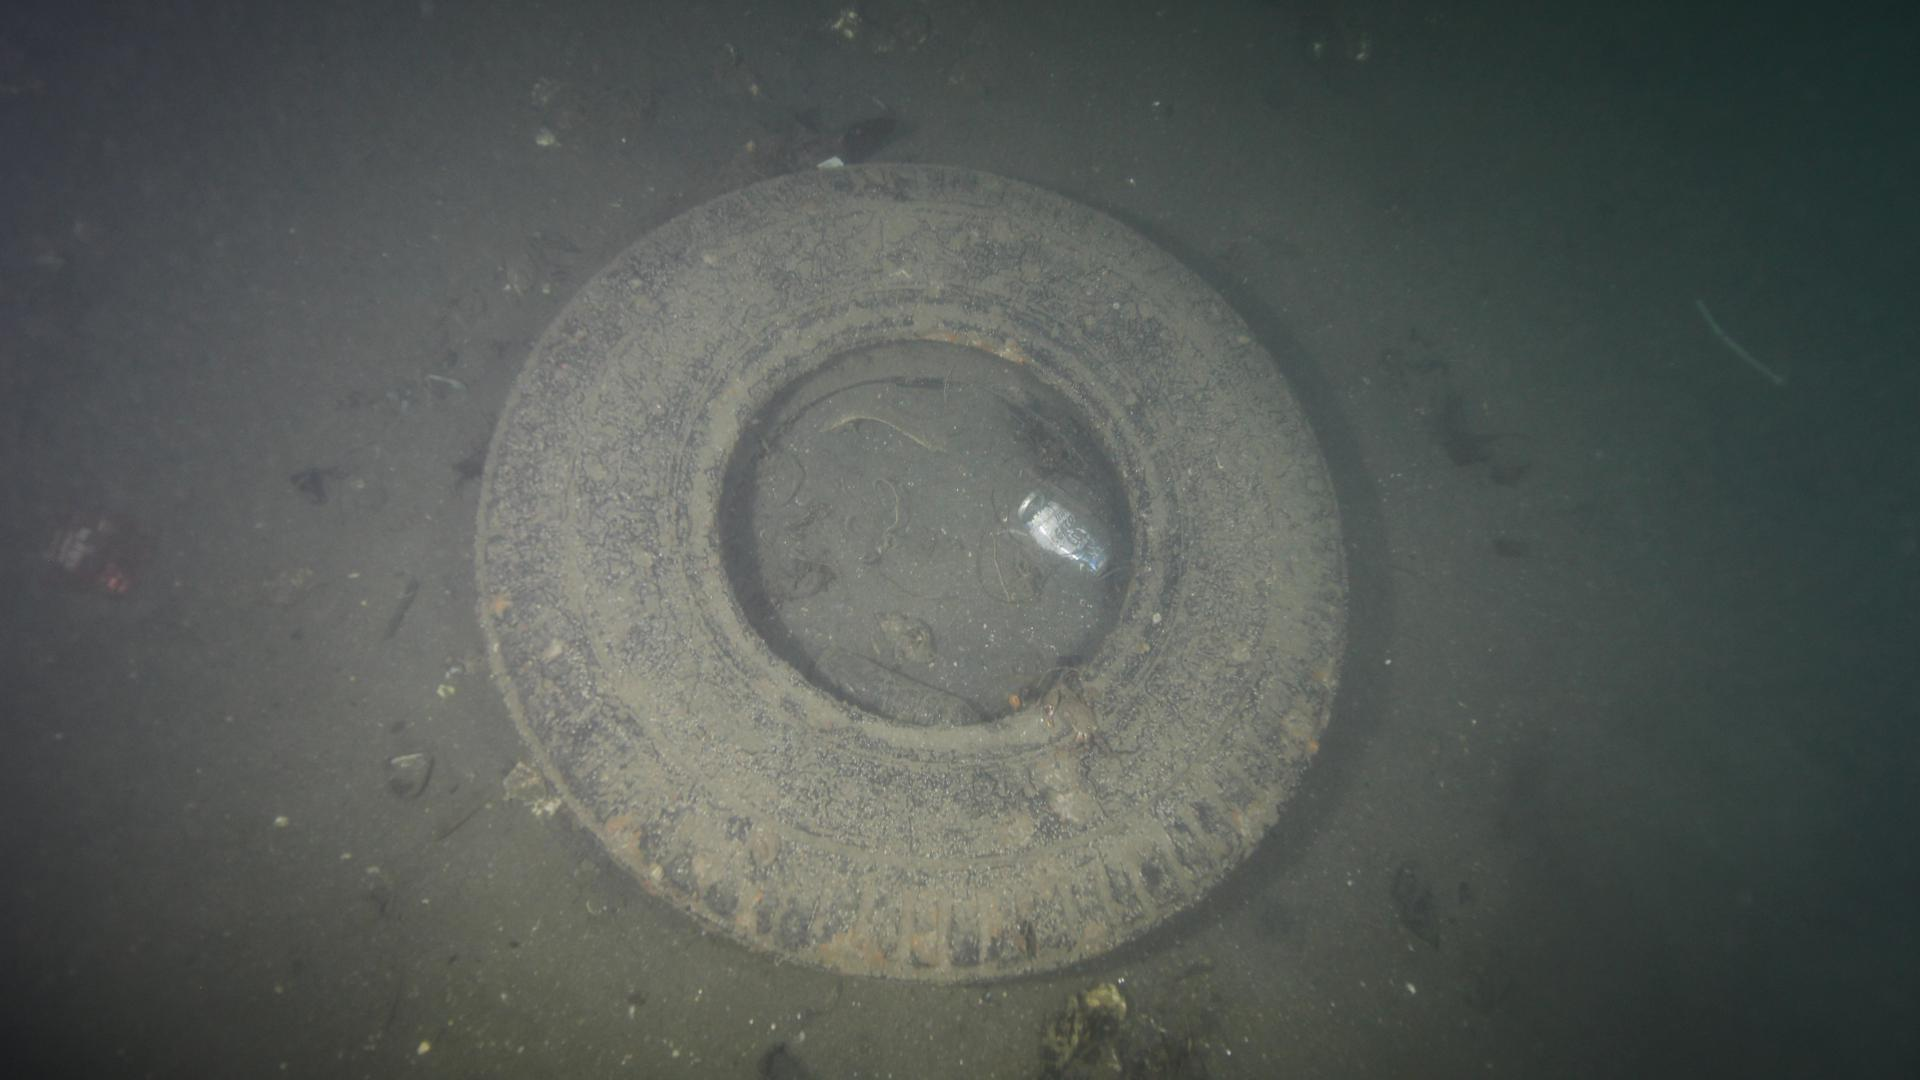tire: (467, 156, 1356, 992)
